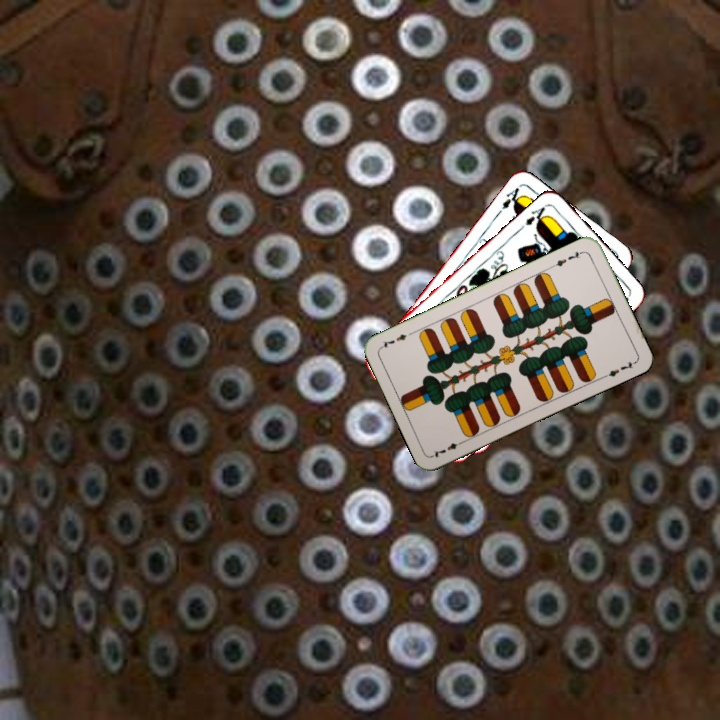E7: (429, 436, 467, 460), (548, 247, 587, 269)
EA: (516, 201, 551, 232), (498, 183, 525, 212)
